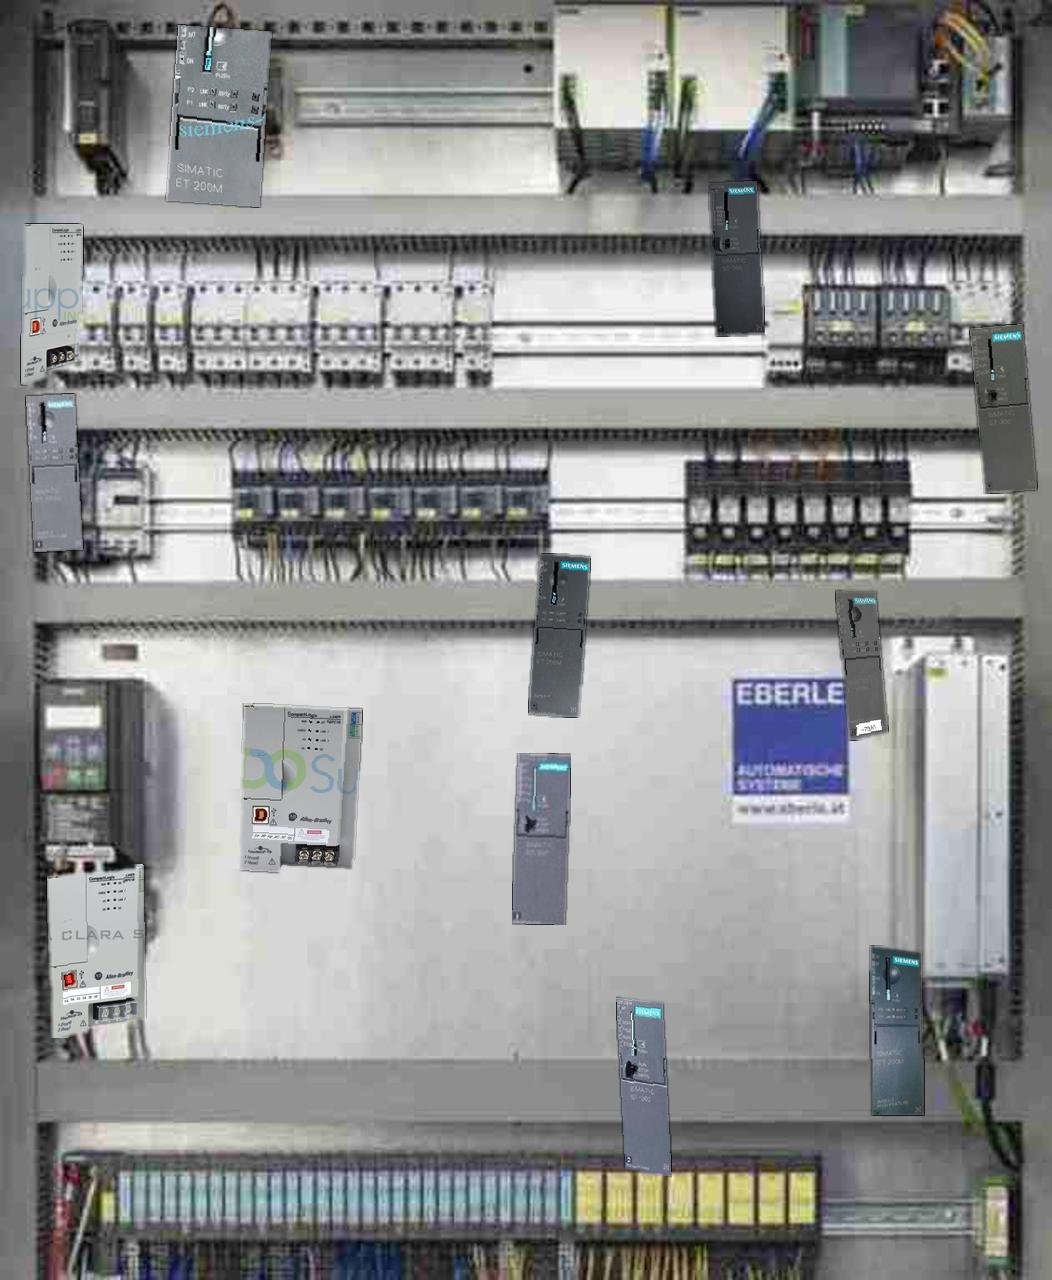AllenBradley: (241, 704, 361, 871), (47, 864, 145, 1037), (21, 224, 82, 383)
Siemens: (970, 324, 1036, 493), (512, 754, 570, 924), (616, 998, 671, 1175), (709, 181, 764, 335)
